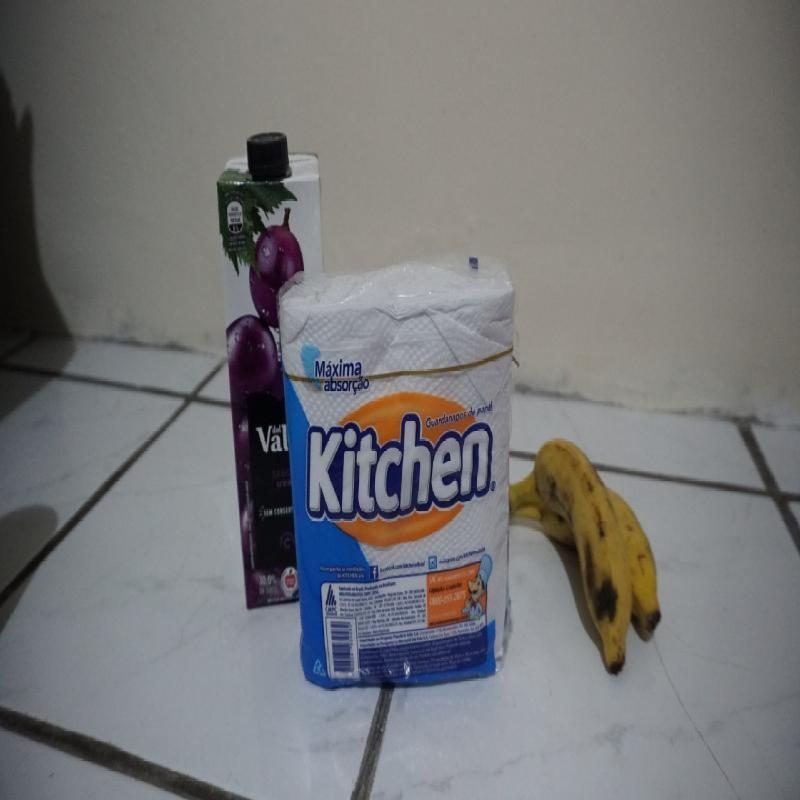Banana: (508, 434, 661, 680)
Napkin: (277, 252, 520, 688)
